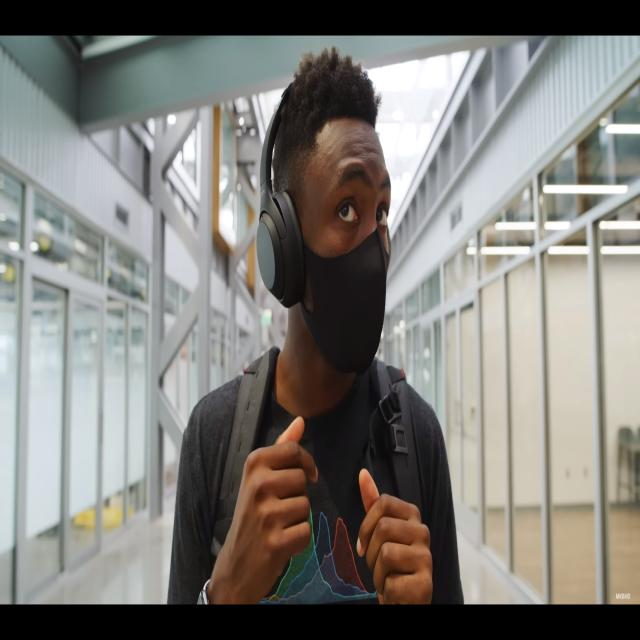Headphone: (255, 84, 308, 310)
